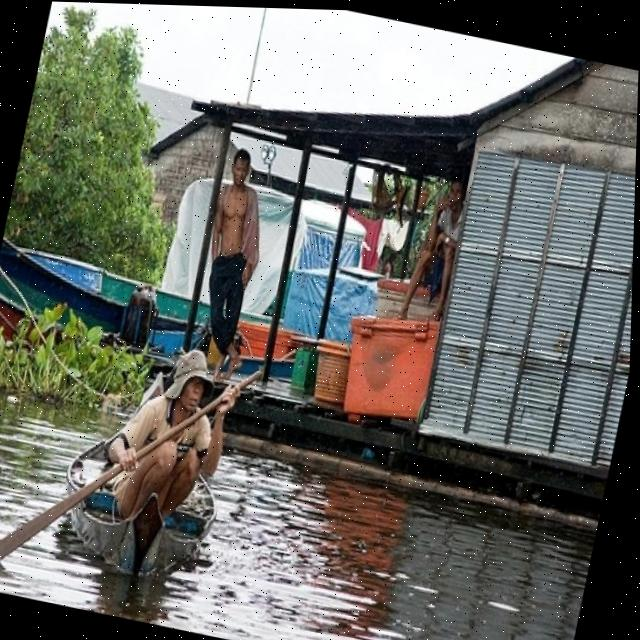civilian: (89, 332, 257, 542), (177, 141, 295, 376), (394, 169, 480, 331)
